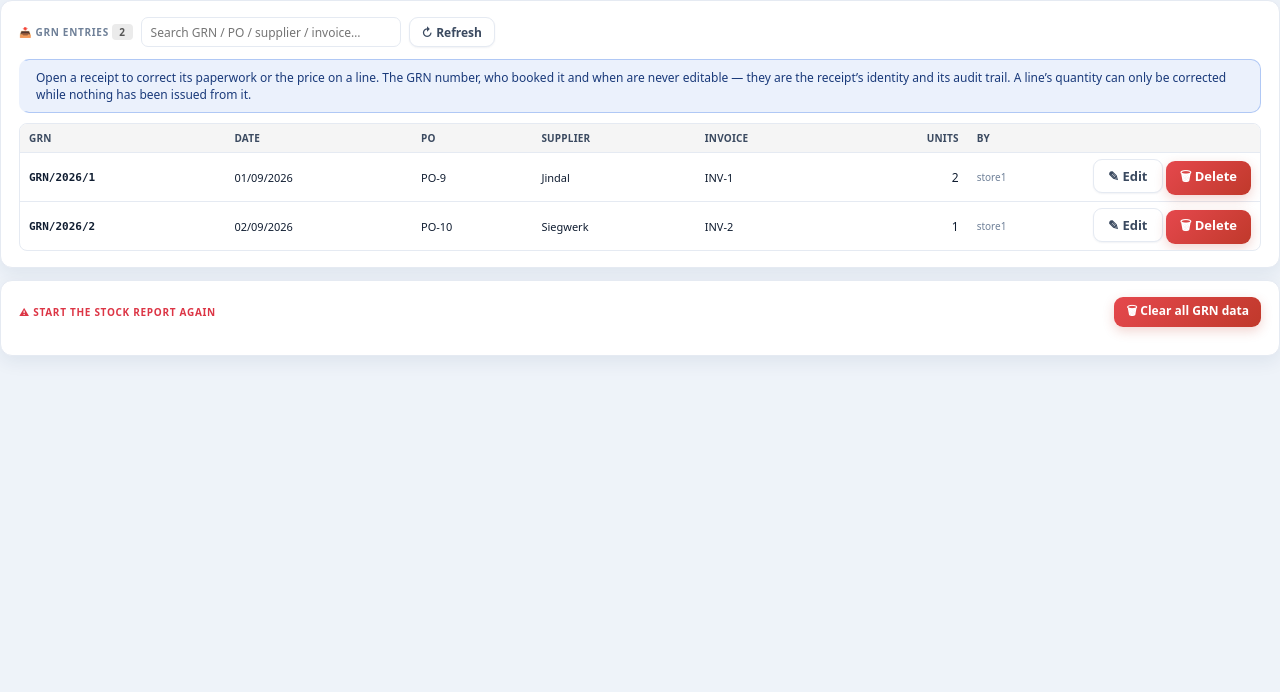
it: Issues 2.7 §3 — Super Admin edits a booked GRN › sends only the field that changed, and never the identity or audit fields
Click the button with aria-label "Edit GRN/2026/1". click: (1128, 176)
box: [1093,159,1162,193]
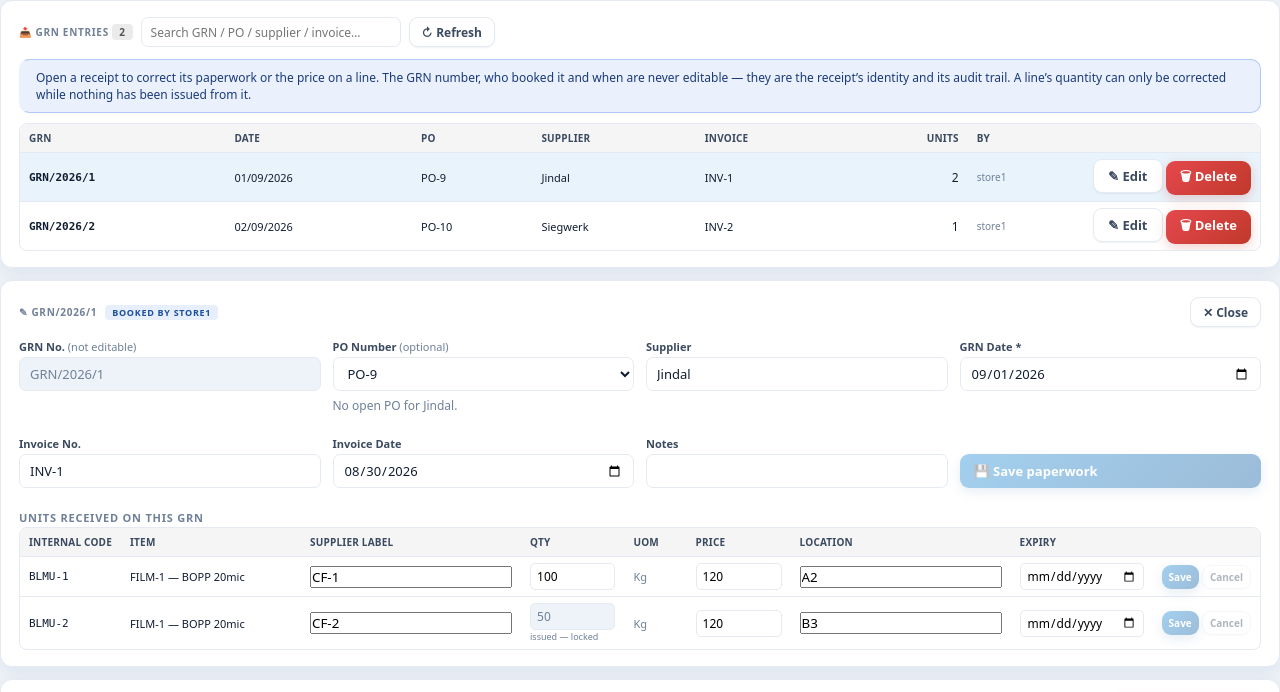
Expected: the field named "Edit invoice number" is shown
Replace the text in the field named "Edit invoice number" with "INV-CORRECTED". click: (170, 471)
box: [19,454,320,488]
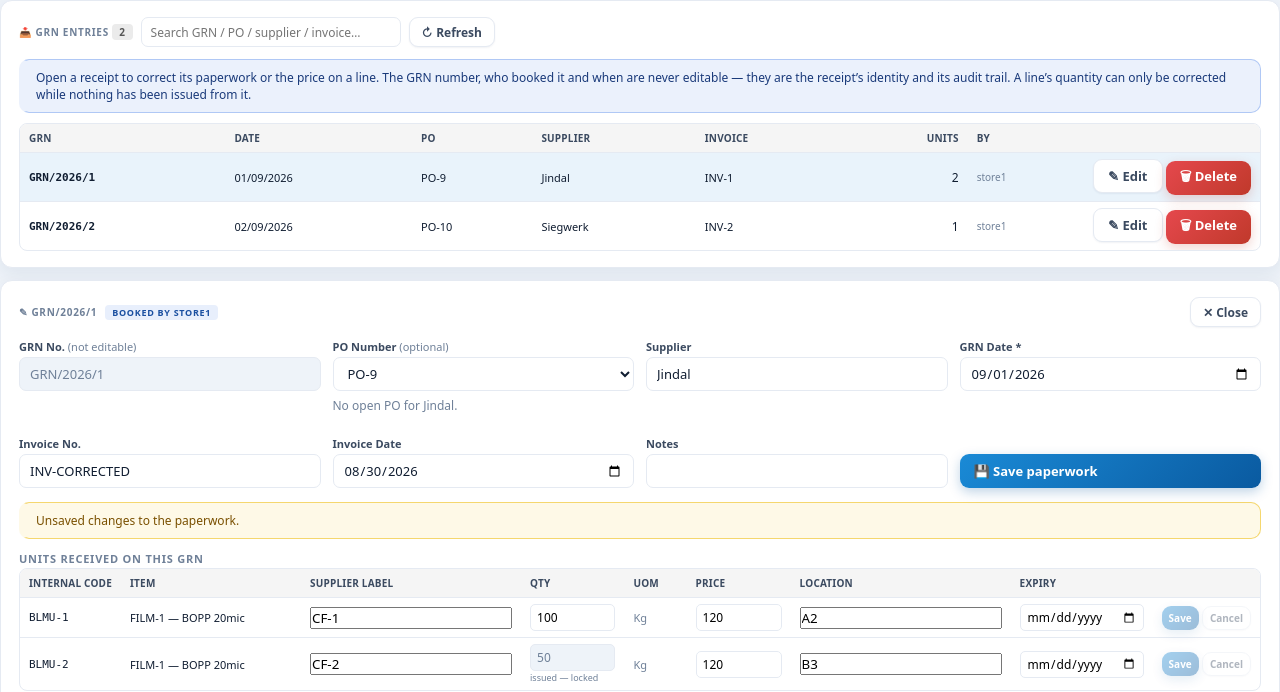
Click the button "💾 Save paperwork". click: (1036, 471)
box: [960,454,1261,488]
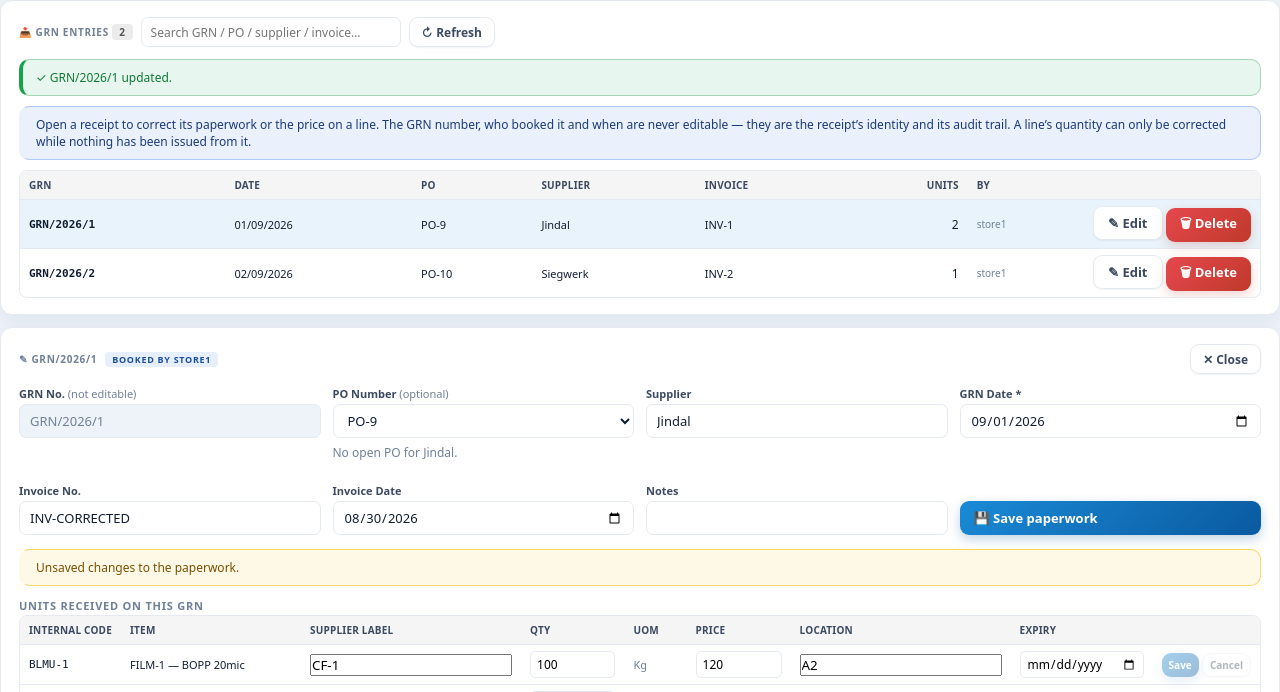
Expected: the text "✓ GRN/2026/1 updated." is shown, [19,59,1261,96]
